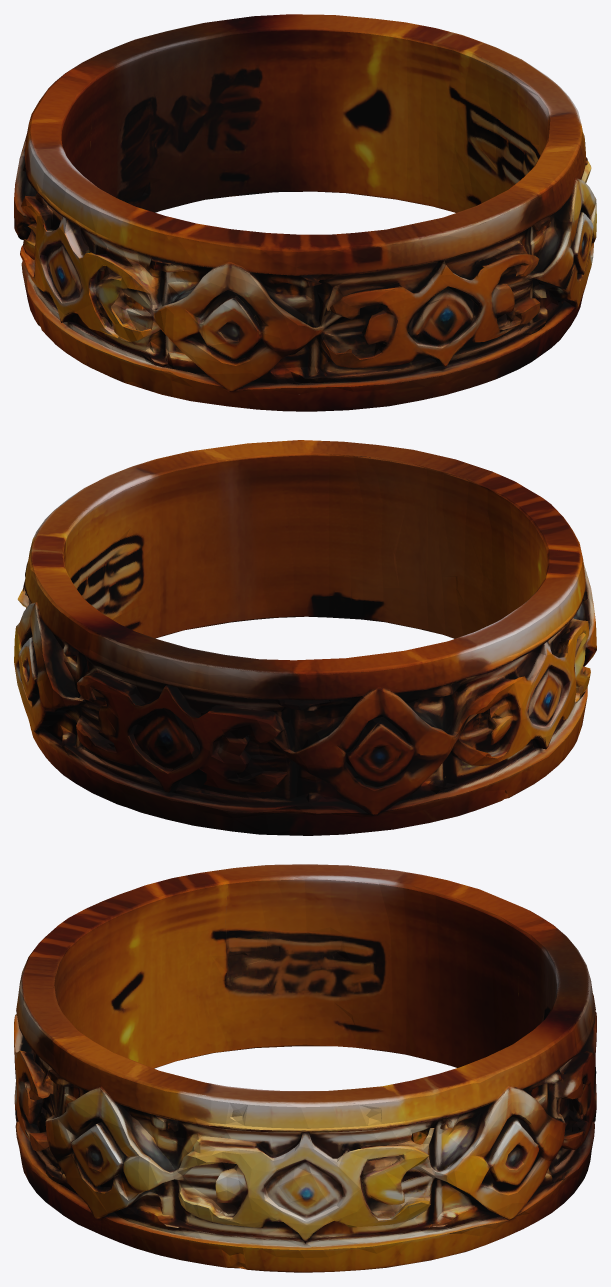
The model's file is wooden-bracelet-art-deco.jpeg.glb.
3 renders of one model, top to bottom at view 1: azimuth 30°, elevation 25°; view 2: azimuth 150°, elevation 25°; view 3: azimuth 270°, elevation 25°, orthographic. The views are drawn at different scales.
Parts seen in each view (by area): view 1: world; view 2: world; view 3: world.
Part boxes in pixels (x1,y1,x2,y2): world: [14, 14, 596, 411]; world: [14, 440, 596, 835]; world: [14, 864, 596, 1272].
Bounding box in the file's own units: 0.9967 × 0.3214 × 0.9978.
Materials: 1 (1 with a texture image).
